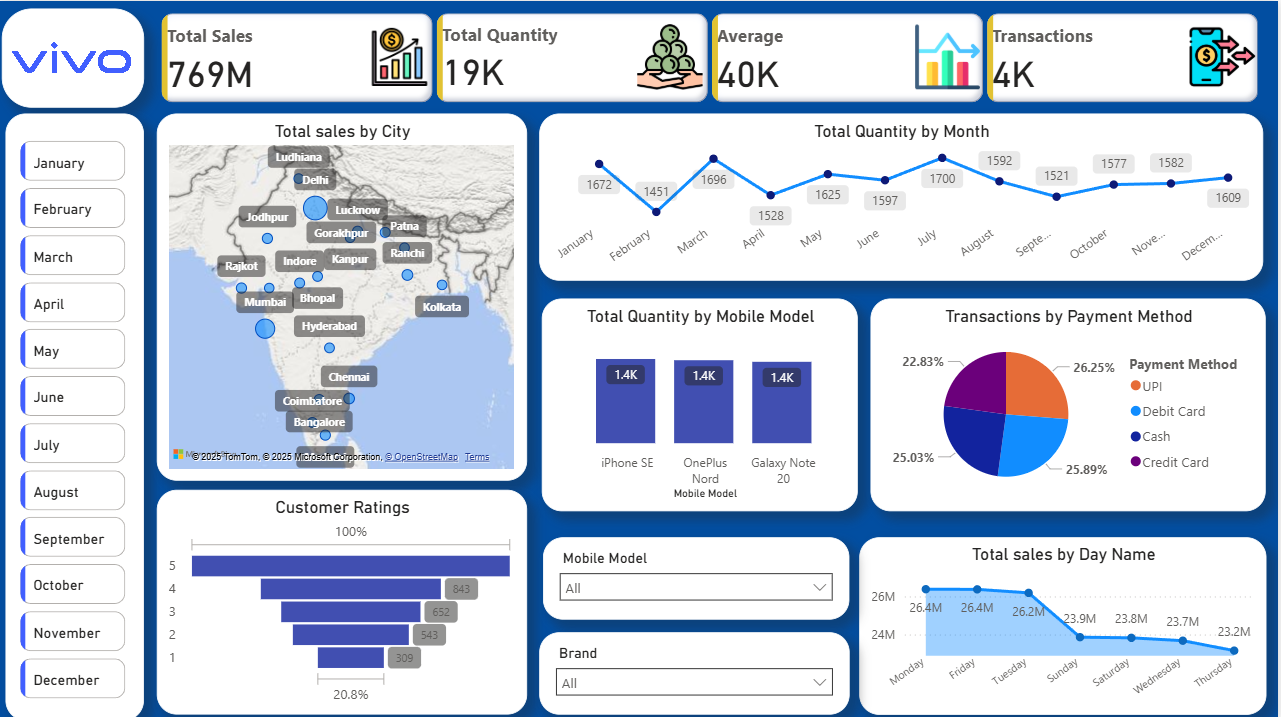

This screenshot's page, from the dashboard's own definition file:
{"tool":"powerbi","page":{"name":"Page 1","canvas":[1280,720],"ordinal":0},"visuals":[{"type":"shape","box":[3.7,7.4,142.3,99.4],"z":0},{"type":"image","box":[0,0,147.2,112.9],"z":1000},{"type":"shape","box":[7.4,112.9,138.7,607.4],"z":2000},{"type":"advancedSlicerVisual","fields":{"Values":["Sheet1.Date.Variation.Date Hierarchy.Month"]},"box":[17.2,135,115.3,568.1],"z":3000},{"type":"cardVisual","fields":{"Data":["Sheet1.total sales","Sheet1.Total Quantity","Sheet1.average","Sheet1.Transactions"]},"box":[158.3,7.4,1106.8,99.4],"z":4000},{"type":"map","fields":{"Category":["Sheet1.City"],"Size":["Sheet1.total sales"]},"box":[158.8,112.5,370,367.5],"z":5000},{"type":"lineChart","fields":{"Y":["Sheet1.Total Quantity"],"Category":["Sheet1.Date.Variation.Date Hierarchy.Month","Sheet1.Date.Variation.Date Hierarchy.Day"]},"box":[541.2,112.5,723.8,167.5],"z":6000},{"type":"columnChart","fields":{"Y":["Sheet1.Total Quantity"],"Category":["Sheet1.Mobile Model"]},"box":[544.3,297,316.2,212.5],"z":7000},{"type":"pieChart","fields":{"Category":["Sheet1.Payment Method"],"Y":["Sheet1.Transactions"]},"box":[873,297,395,212.5],"z":8000},{"type":"funnel","title":"Customer Ratings","fields":{"Category":["Sheet1.Customer Ratings"],"Y":["CountNonNull(Sheet1.Customer Ratings)"]},"box":[158.8,488.8,370,225],"z":9000},{"type":"areaChart","fields":{"Category":["Sheet1.Day Name"],"Y":["Sheet1.total sales"]},"box":[861.5,536.5,407.5,177.5],"z":10000},{"type":"slicer","fields":{"Values":["Sheet1.Mobile Model"]},"box":[545.2,536.5,306.2,82.5],"z":11000},{"type":"slicer","fields":{"Values":["Sheet1.Brand"]},"box":[541.2,631.2,310,82.5],"z":12000},{"type":"qnaVisual","box":[608.8,338.8,316.2,150],"z":13000}]}

Visuals, with their boxes in screenshot pixels (x1, y1, x2, y2), scaled from the page's 1280x720 canvas onto the 1281x717 screenshot:
shape: [4, 7, 146, 106]
image: [0, 0, 147, 112]
shape: [7, 112, 146, 716]
advancedSlicerVisual - Sheet1.Date.Variation.Date Hierarchy.Month: [17, 134, 133, 700]
cardVisual - Sheet1.total sales x Sheet1.Total Quantity: [158, 7, 1266, 106]
map - Sheet1.City x Sheet1.total sales: [159, 112, 529, 478]
lineChart - Sheet1.Total Quantity x Sheet1.Date.Variation.Date Hierarchy.Month: [542, 112, 1266, 279]
columnChart - Sheet1.Total Quantity x Sheet1.Mobile Model: [545, 296, 861, 507]
pieChart - Sheet1.Payment Method x Sheet1.Transactions: [874, 296, 1269, 507]
"Customer Ratings" funnel: [159, 487, 529, 711]
areaChart - Sheet1.Day Name x Sheet1.total sales: [862, 534, 1270, 711]
slicer - Sheet1.Mobile Model: [546, 534, 852, 616]
slicer - Sheet1.Brand: [542, 629, 852, 711]
qnaVisual: [609, 337, 926, 487]
